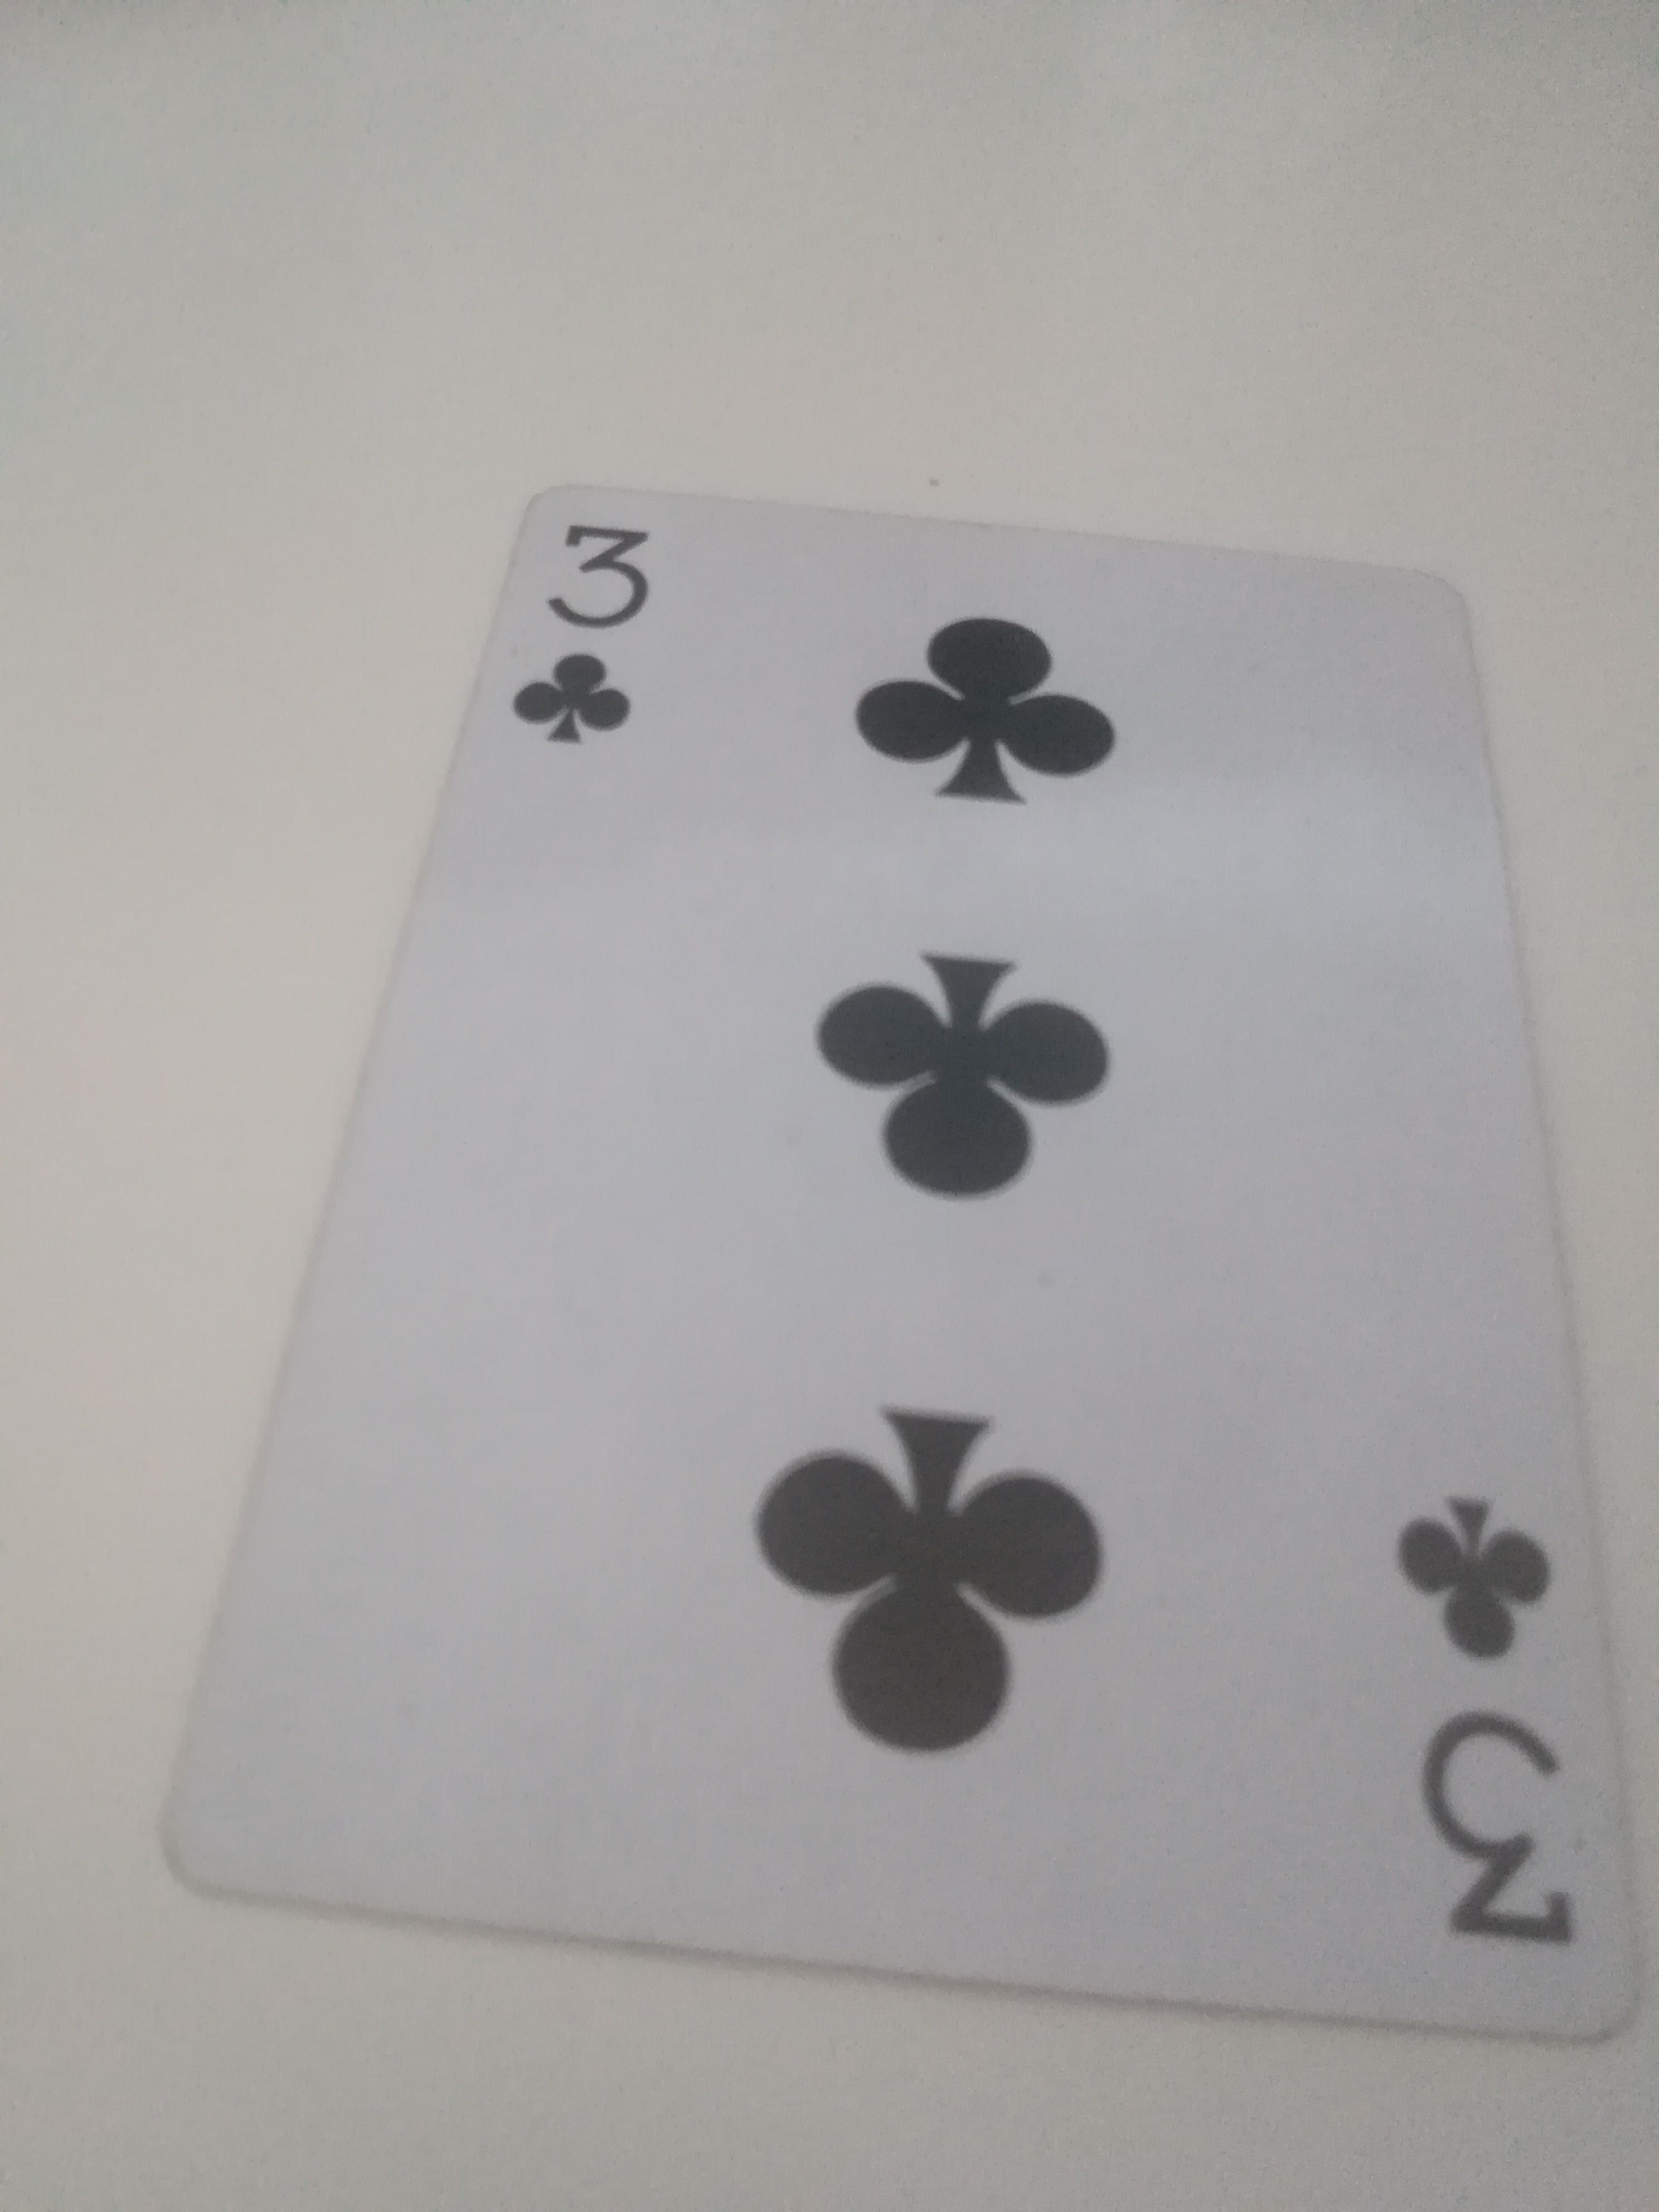3C: (146, 482, 1645, 2047)
